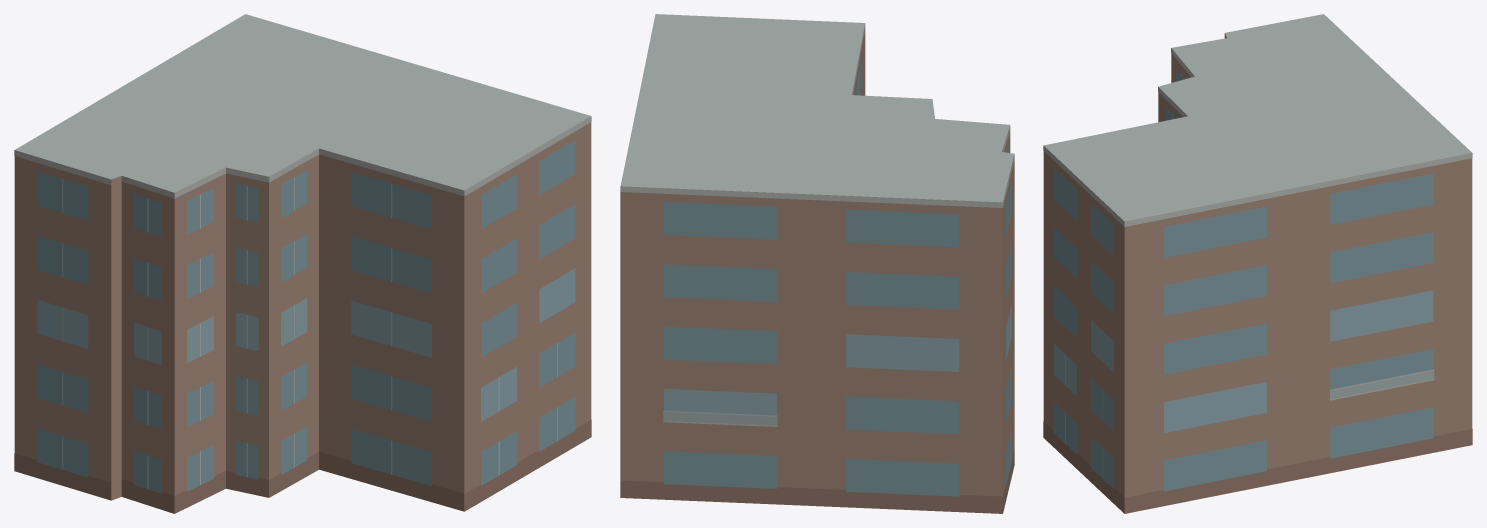
The model's file is survey-upis-32725202.glb.
3 renders of one model, left to right at view 1: azimuth 30°, elevation 25°; view 2: azimuth 150°, elevation 25°; view 3: azimuth 270°, elevation 25°, orthographic. The views are drawn at different scales.
Parts seen in each view (by area): view 1: survey-upis-32725202.tmp; view 2: survey-upis-32725202.tmp; view 3: survey-upis-32725202.tmp.
Part boxes in pixels (x1,y1,x2,y2): survey-upis-32725202.tmp: (14,14,591,513); survey-upis-32725202.tmp: (620,14,1014,513); survey-upis-32725202.tmp: (1043,14,1472,513).
Size of the model in its own units: 20.43 by 13.4 by 17.84.
